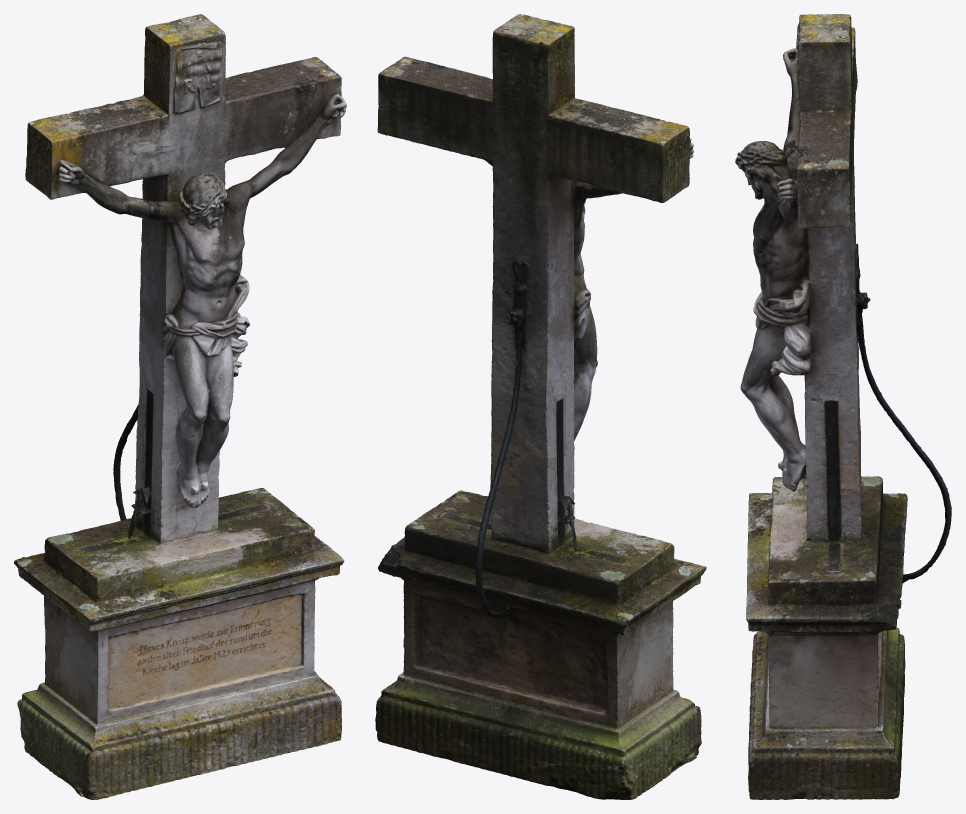
File: Jesus.glb
3 views of the same model, side by side, from view 1: azimuth 30°, elevation 25°; view 2: azimuth 150°, elevation 25°; view 3: azimuth 270°, elevation 25° (orthographic).
Parts seen in each view (by area): view 1: Object_4, Object_7, Object_9, Object_8, Object_10, Object_6, Object_5, Object_11, Object_3, Object_2; view 2: Object_3, Object_2, Object_8, Object_5, Object_4, Object_7, Object_6, Object_10, Object_9, Object_11; view 3: Object_10, Object_9, Object_6, Object_2, Object_5, Object_7, Object_8, Object_3, Object_11, Object_4.
Boxes of the visible parts, <box> form: Object_4: <box>17,523,301,799</box>; Object_7: <box>69,14,269,511</box>; Object_9: <box>94,15,344,765</box>; Object_8: <box>25,14,346,514</box>; Object_10: <box>137,229,318,677</box>; Object_6: <box>69,167,341,773</box>; Object_5: <box>45,187,301,720</box>; Object_11: <box>113,228,249,509</box>; Object_3: <box>14,398,291,765</box>; Object_2: <box>113,353,276,535</box>; Object_3: <box>375,495,661,798</box>; Object_2: <box>376,122,574,768</box>; Object_8: <box>377,14,693,229</box>; Object_5: <box>491,197,685,705</box>; Object_4: <box>468,493,706,799</box>; Object_7: <box>452,16,622,224</box>; Object_6: <box>476,203,595,568</box>; Object_10: <box>400,290,589,540</box>; Object_9: <box>445,14,611,525</box>; Object_11: <box>475,203,597,568</box>; Object_10: <box>742,220,905,714</box>; Object_9: <box>746,30,854,799</box>; Object_6: <box>740,52,951,799</box>; Object_2: <box>769,206,951,795</box>; Object_5: <box>747,197,870,548</box>; Object_7: <box>735,14,854,416</box>; Object_8: <box>776,14,857,421</box>; Object_3: <box>770,388,907,799</box>; Object_11: <box>741,216,951,522</box>; Object_4: <box>748,477,905,693</box>.
Size of the model in its own units: 1.21 by 2.87 by 0.7877.
Materials: 2 (1 with a texture image).
